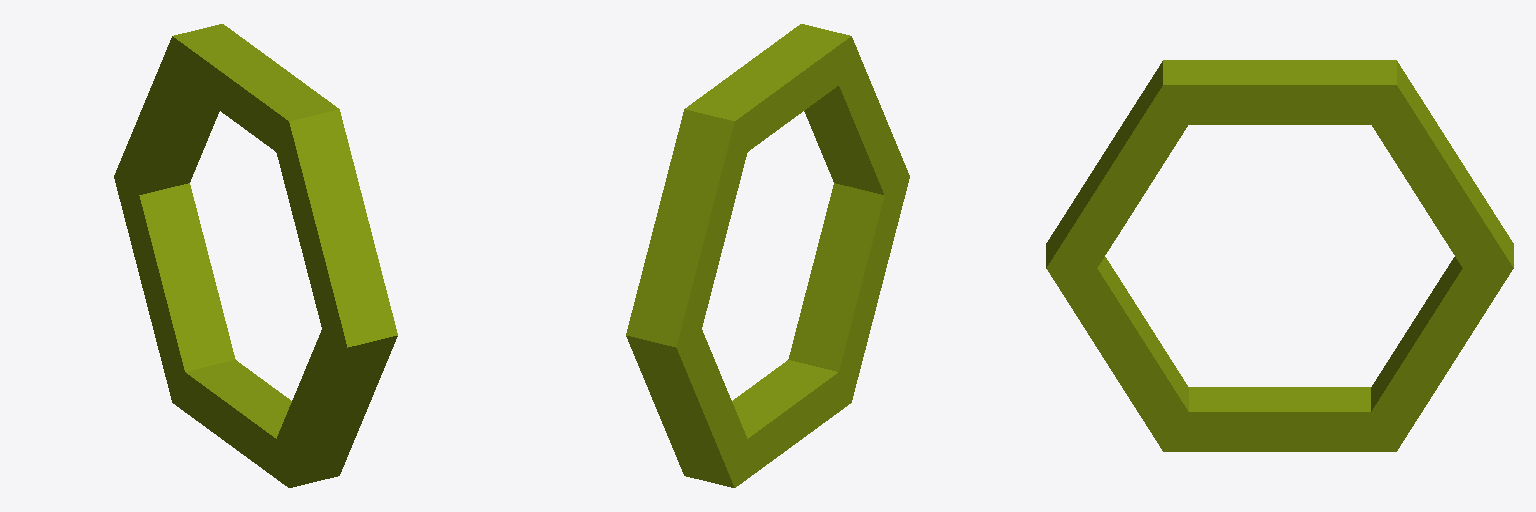
Rendered from ring2.obj.
3 views of the same model, side by side, from view 1: azimuth 30°, elevation 25°; view 2: azimuth 150°, elevation 25°; view 3: azimuth 270°, elevation 25° (orthographic).
Parts seen in each view (by area): view 1: Cylinder; view 2: Cylinder; view 3: Cylinder.
Boxes of the visible parts, x1=… form: Cylinder: x1=114, y1=24, x2=397, y2=487; Cylinder: x1=626, y1=24, x2=909, y2=487; Cylinder: x1=1046, y1=60, x2=1513, y2=451.
Bounding box in the file's own units: 2 × 13.86 × 16.